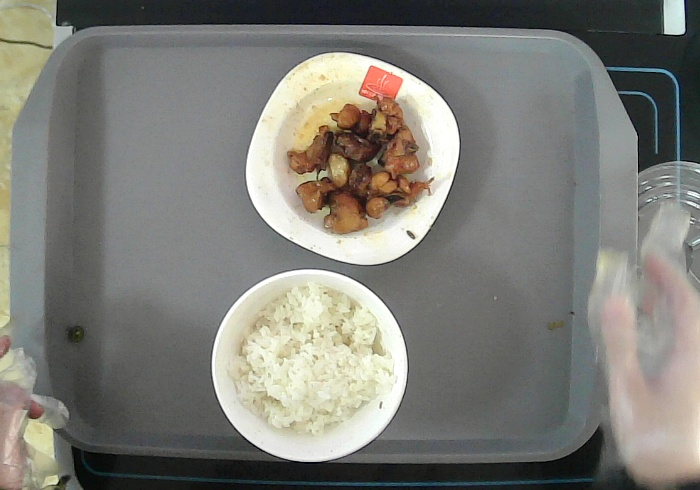SHKJ-Bai_Se_Si_Fang_Cai_Die: (243, 49, 463, 268)
SHKJ-Fan_Wan: (209, 267, 410, 464)
